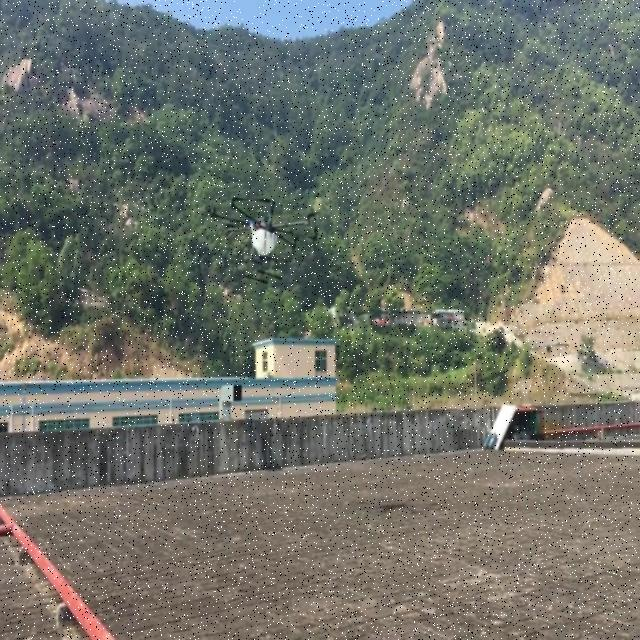UAV: (208, 196, 318, 284)
